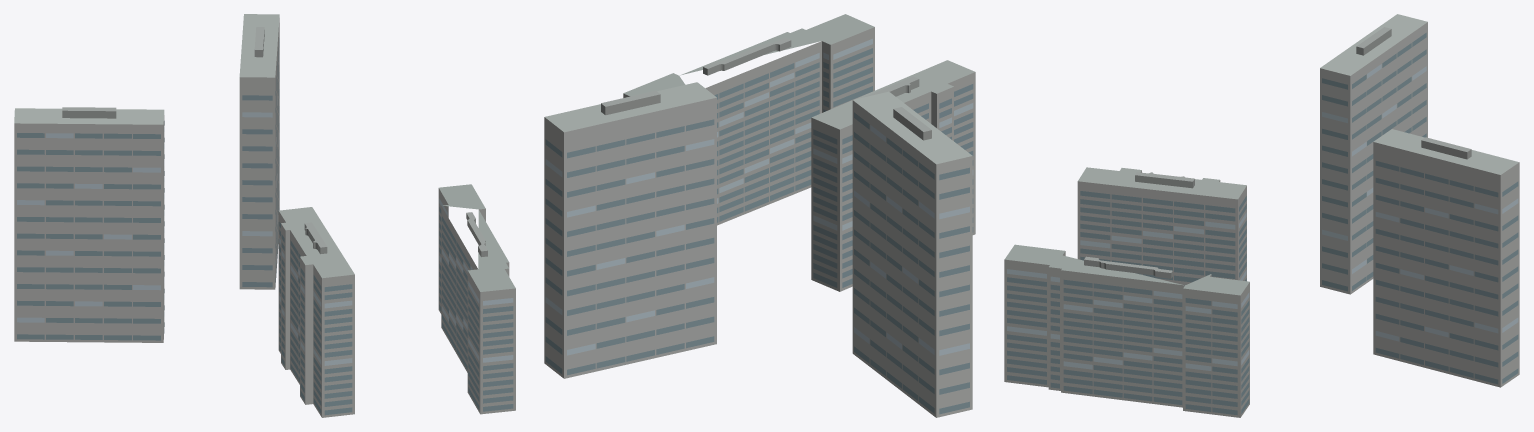
Rendered from apt-a13981001.glb.
3 views of the same model, side by side, from view 1: azimuth 30°, elevation 25°; view 2: azimuth 150°, elevation 25°; view 3: azimuth 270°, elevation 25° (orthographic). The views are drawn at different scales.
Visible parts, largest first — view 1: apt-a13981001; view 2: apt-a13981001; view 3: apt-a13981001.
Boxes of the visible parts, box(x1,y1,x2,y2) form: apt-a13981001: box(14, 14, 515, 417); apt-a13981001: box(544, 14, 975, 417); apt-a13981001: box(1004, 14, 1519, 417).
Size of the model in its own units: 130 by 74 by 153.
